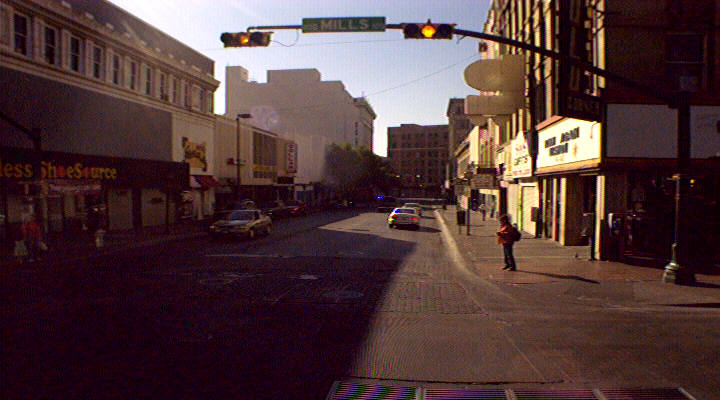Ramp: (457, 265, 661, 314)
